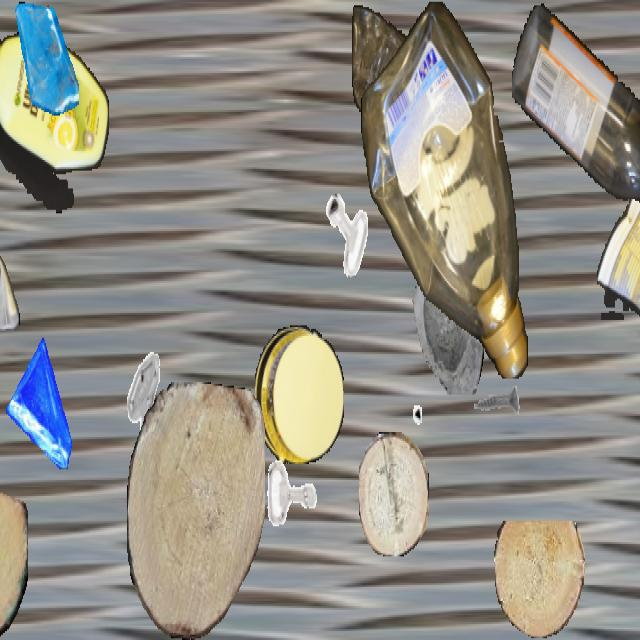glass: (397, 234, 487, 394), (6, 338, 80, 469), (15, 1, 79, 116)
metal: (261, 439, 323, 549), (113, 349, 173, 455), (469, 363, 521, 455), (372, 353, 422, 442), (323, 190, 371, 276)
plastic: (361, 1, 529, 378), (512, 2, 640, 229), (0, 32, 108, 213), (255, 325, 343, 464), (352, 2, 426, 126), (597, 146, 640, 320), (0, 132, 20, 330)
wood: (127, 382, 265, 638), (494, 521, 584, 638), (359, 432, 429, 556), (0, 489, 27, 638)
